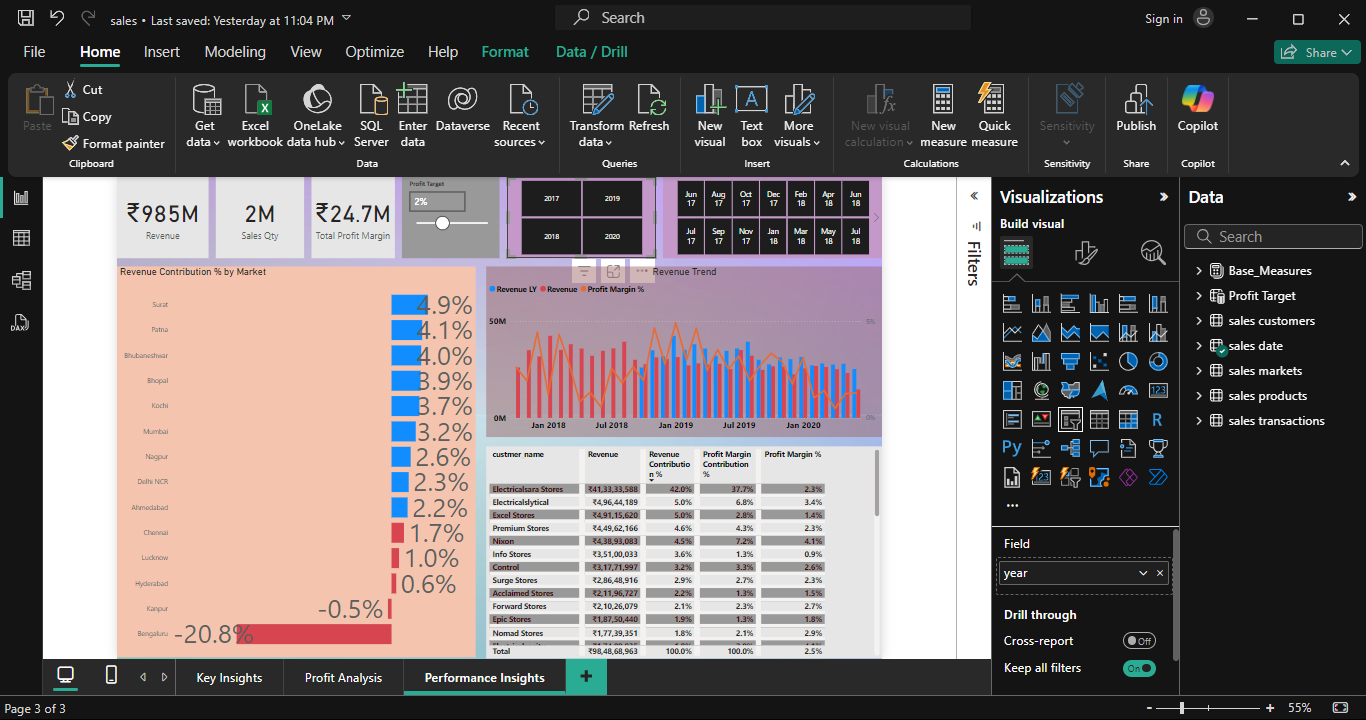

What the dashboard file says about the page in this screenshot:
{"tool":"powerbi","page":{"name":"Performance Insights","canvas":[1350,850],"ordinal":2},"visuals":[{"type":"card","fields":{"Values":["BaseMeasures (2).Revenue"]},"box":[0,0,161.4,143.1],"z":0},{"type":"card","fields":{"Values":["BaseMeasures (2).Sales Qty"]},"box":[174.3,0,155.9,143.1],"z":1000},{"type":"slicer","fields":{"Values":["sales date.year"]},"box":[688,0,262.3,143.1],"z":2000},{"type":"slicer","fields":{"Values":["sales date.cy_date"]},"box":[963.1,0,387.1,143.1],"z":3000},{"type":"tableEx","title":"Top 5 Customers","fields":{"Values":["sales customers.custmer_name","BaseMeasures (2).Revenue","BaseMeasures (2).Revenue Contribution %","BaseMeasures (2).Profit Margin Contribution %","BaseMeasures (2).Profit Margin %"]},"box":[651.3,475.1,699,374.2],"z":4000},{"type":"lineClusteredColumnComboChart","title":"Revenue Trend","fields":{"Category":["sales date.cy_date"],"Y":["BaseMeasures (2).Revenue LY","BaseMeasures (2).Revenue"],"Y2":["BaseMeasures (2).Profit Margin %"]},"box":[651.3,157.8,699,300.9],"z":5000},{"type":"card","fields":{"Values":["BaseMeasures (2).Total Profit Margin"]},"box":[343.1,0,146.8,143.1],"z":6000},{"type":"barChart","title":"Revenue Contribution % by Market","fields":{"Y":["BaseMeasures (2).Profit Margin %"],"Category":["sales markets.zone","sales markets.markets_name","sales customers.custmer_name","sales products.product_code"]},"box":[0,157.8,632.9,689.8],"z":7000},{"type":"slicer","fields":{"Values":["Profit Target.Profit Target"]},"box":[502.7,0,172.4,143.1],"z":8000}]}

Visuals, with their boxes on the page's 1350x850 design canvas (x1, y1, x2, y2). These are canvas units, not pixel positions in the 1366x720 screenshot, which may show the page scaled, cropped or inside an application window:
card - BaseMeasures (2).Revenue: <box>0,0,161,143</box>
card - BaseMeasures (2).Sales Qty: <box>174,0,330,143</box>
slicer - sales date.year: <box>688,0,950,143</box>
slicer - sales date.cy_date: <box>963,0,1350,143</box>
"Top 5 Customers" tableEx: <box>651,475,1350,849</box>
"Revenue Trend" lineClusteredColumnComboChart: <box>651,158,1350,459</box>
card - BaseMeasures (2).Total Profit Margin: <box>343,0,490,143</box>
"Revenue Contribution % by Market" barChart: <box>0,158,633,848</box>
slicer - Profit Target.Profit Target: <box>503,0,675,143</box>
